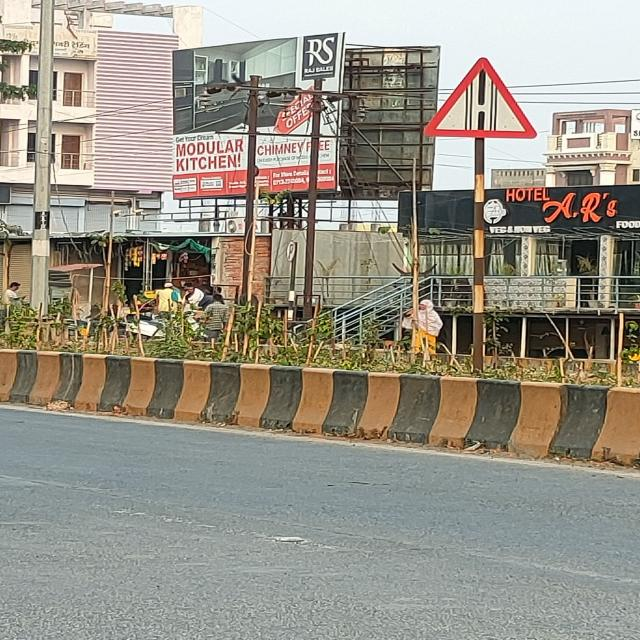GAP_IN_MEDIAN: (414, 58, 537, 139)
